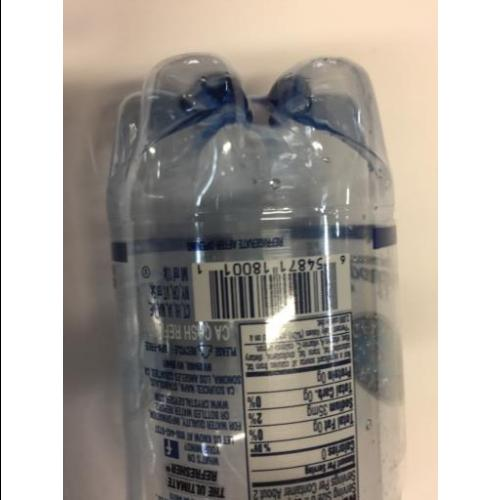plastic: (107, 55, 399, 500)
